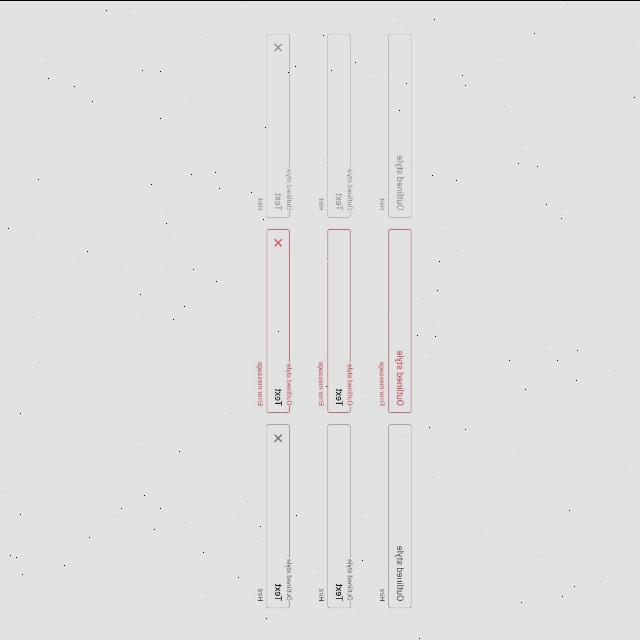VTextField: (378, 32, 414, 218), (318, 32, 354, 218), (258, 422, 294, 608), (257, 227, 293, 413), (380, 422, 414, 608), (319, 423, 353, 609), (320, 227, 354, 413), (258, 32, 292, 218), (379, 228, 413, 412)
